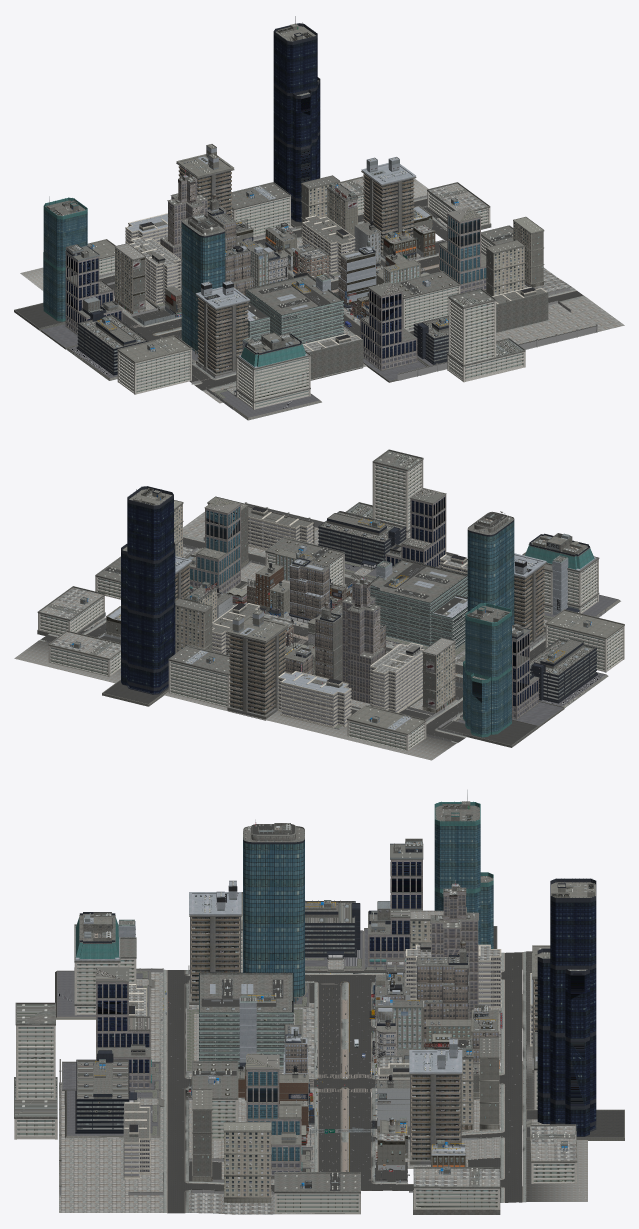
Rendered from city_buildings-com1.glb.
3 renders of one model, top to bottom at view 1: azimuth 30°, elevation 25°; view 2: azimuth 150°, elevation 25°; view 3: azimuth 270°, elevation 25°, orthographic. The views are drawn at different scales.
Parts seen in each view (by area): view 1: Object_20, Object_112, Object_9, Object_183, Object_7, Object_145, Object_151, Object_206, Object_102, Object_138, Object_174, Object_160 (+16 smaller); view 2: Object_20, Object_112, Object_9, Object_183, Object_7, Object_145, Object_177, Object_151, Object_206, Object_174, Object_136, Object_102 (+14 smaller); view 3: Object_20, Object_102, Object_206, Object_9, Object_183, Object_112, Object_145, Object_7, Object_151, Object_188, Object_136, Object_174 (+21 smaller).
Boxes of the visible parts, x1=… form: Object_20: x1=14, y1=176, x2=597, y2=420; Object_112: x1=99, y1=191, x2=525, y2=409; Object_9: x1=66, y1=35, x2=415, y2=358; Object_183: x1=43, y1=209, x2=486, y2=353; Object_7: x1=65, y1=175, x2=486, y2=370; Object_145: x1=87, y1=23, x2=544, y2=406; Object_151: x1=176, y1=162, x2=416, y2=375; Object_206: x1=20, y1=178, x2=624, y2=403; Object_102: x1=15, y1=199, x2=583, y2=389; Object_138: x1=111, y1=146, x2=430, y2=399; Object_174: x1=78, y1=183, x2=448, y2=371; Object_160: x1=115, y1=182, x2=531, y2=310; Object_20: x1=37, y1=449, x2=620, y2=747; Object_112: x1=38, y1=460, x2=624, y2=750; Object_9: x1=121, y1=497, x2=537, y2=706; Object_183: x1=190, y1=507, x2=514, y2=734; Object_7: x1=189, y1=494, x2=538, y2=718; Object_145: x1=48, y1=488, x2=624, y2=734; Object_177: x1=212, y1=509, x2=467, y2=728; Object_151: x1=175, y1=561, x2=546, y2=720; Object_206: x1=14, y1=512, x2=548, y2=760; Object_174: x1=191, y1=520, x2=595, y2=699; Object_136: x1=105, y1=486, x2=597, y2=703; Object_102: x1=41, y1=512, x2=545, y2=745; Object_20: x1=14, y1=801, x2=574, y2=1214; Object_102: x1=167, y1=824, x2=624, y2=1213; Object_206: x1=59, y1=911, x2=587, y2=1212; Object_9: x1=97, y1=862, x2=596, y2=1136; Object_183: x1=243, y1=824, x2=493, y2=1160; Object_112: x1=14, y1=930, x2=576, y2=1214; Object_145: x1=83, y1=882, x2=624, y2=1203; Object_7: x1=96, y1=860, x2=478, y2=1175; Object_151: x1=189, y1=915, x2=537, y2=1165; Object_188: x1=163, y1=951, x2=526, y2=1213; Object_136: x1=75, y1=839, x2=596, y2=1136; Object_174: x1=77, y1=900, x2=472, y2=1148.
Size of the model in its own units: 167 by 70.39 by 151.
Materials: 100 (99 with a texture image).
